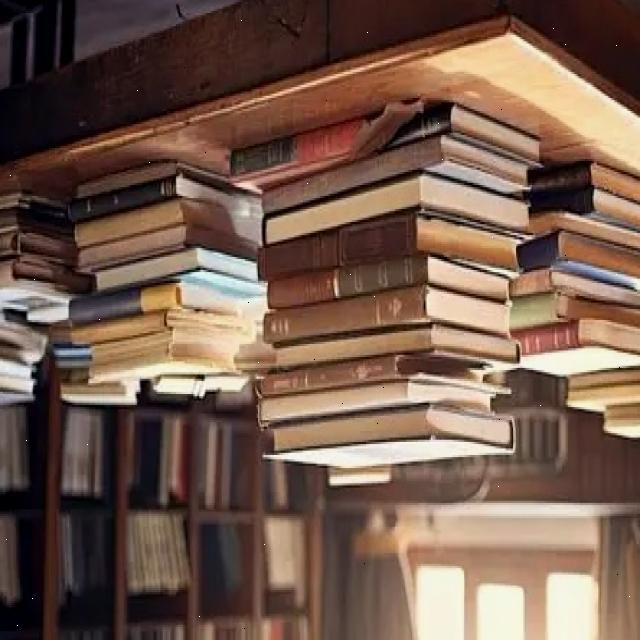book: (263, 137, 444, 217), (256, 212, 422, 283), (265, 278, 428, 346), (261, 250, 428, 312), (256, 359, 399, 398), (68, 285, 182, 327), (74, 176, 178, 219)
